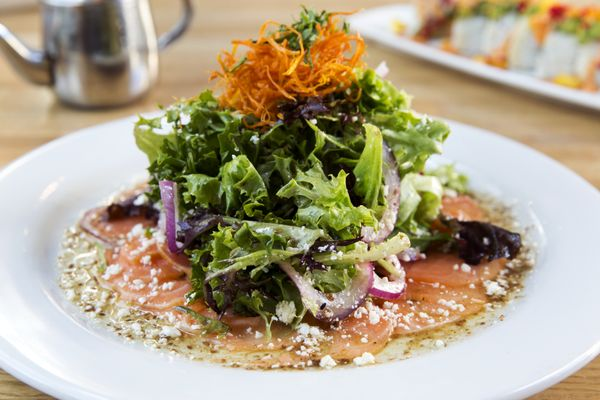curry: (3, 1, 593, 393)
